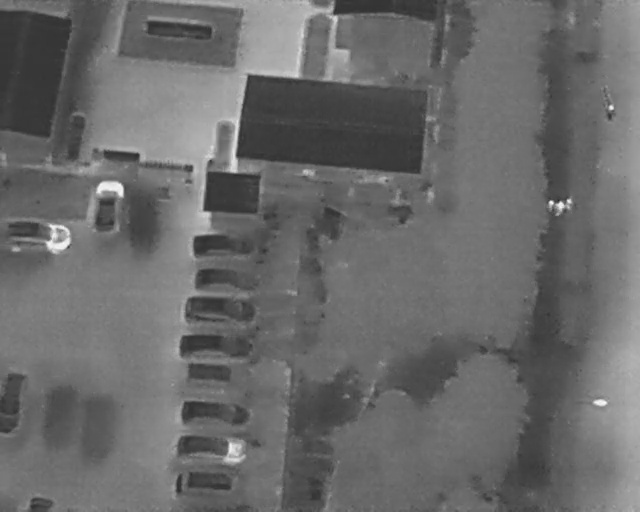Car: (4, 220, 72, 256), (179, 332, 255, 363), (89, 177, 126, 235), (183, 297, 257, 326), (176, 435, 247, 464), (180, 401, 250, 428), (0, 372, 28, 437), (191, 233, 254, 260), (194, 267, 259, 293), (173, 473, 242, 497), (28, 496, 53, 512)
Person: (607, 101, 618, 121), (556, 200, 565, 216), (547, 198, 554, 212), (566, 196, 572, 211)
